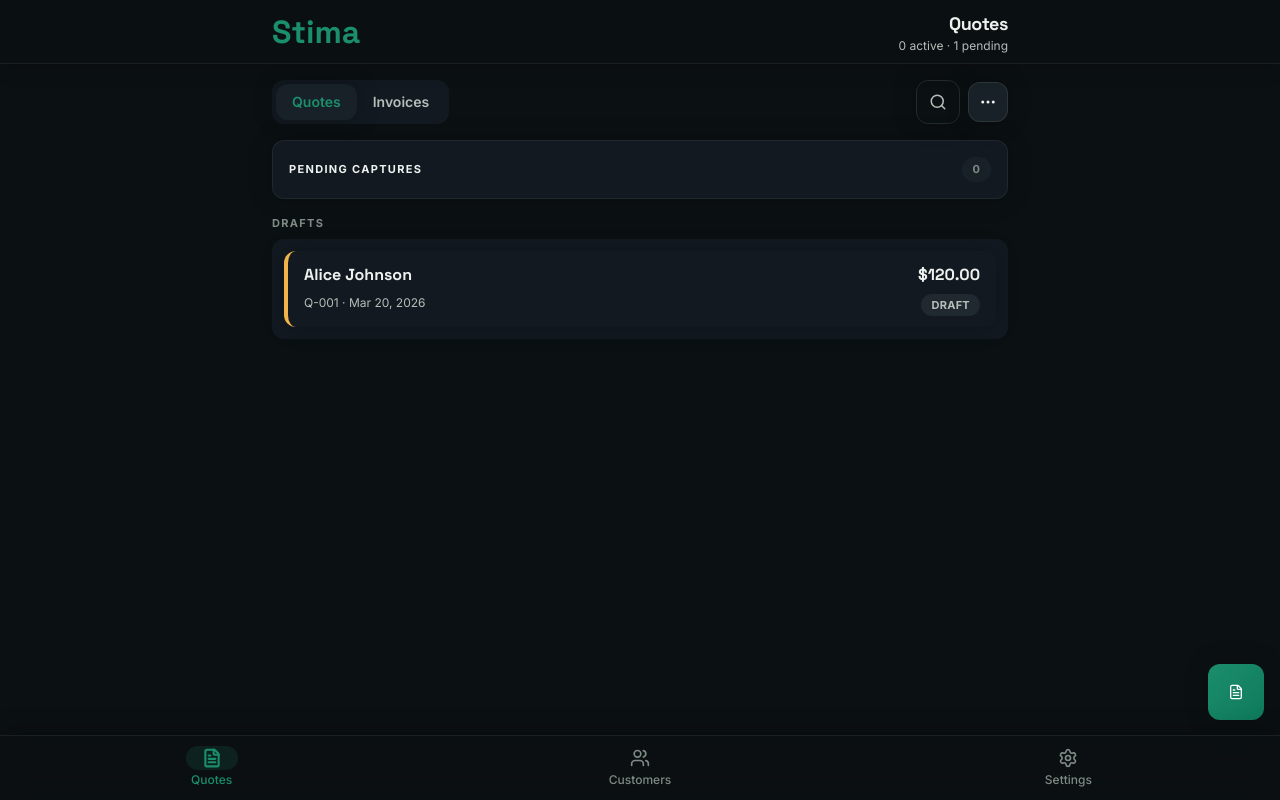
QuoteList › preserves open search state and query when switching tabs
Expected: the text "Q-001 · Mar 20, 2026" is shown, [304,295,426,311]
Click the button named "Open search". click: (938, 102)
box: [916,80,960,124]
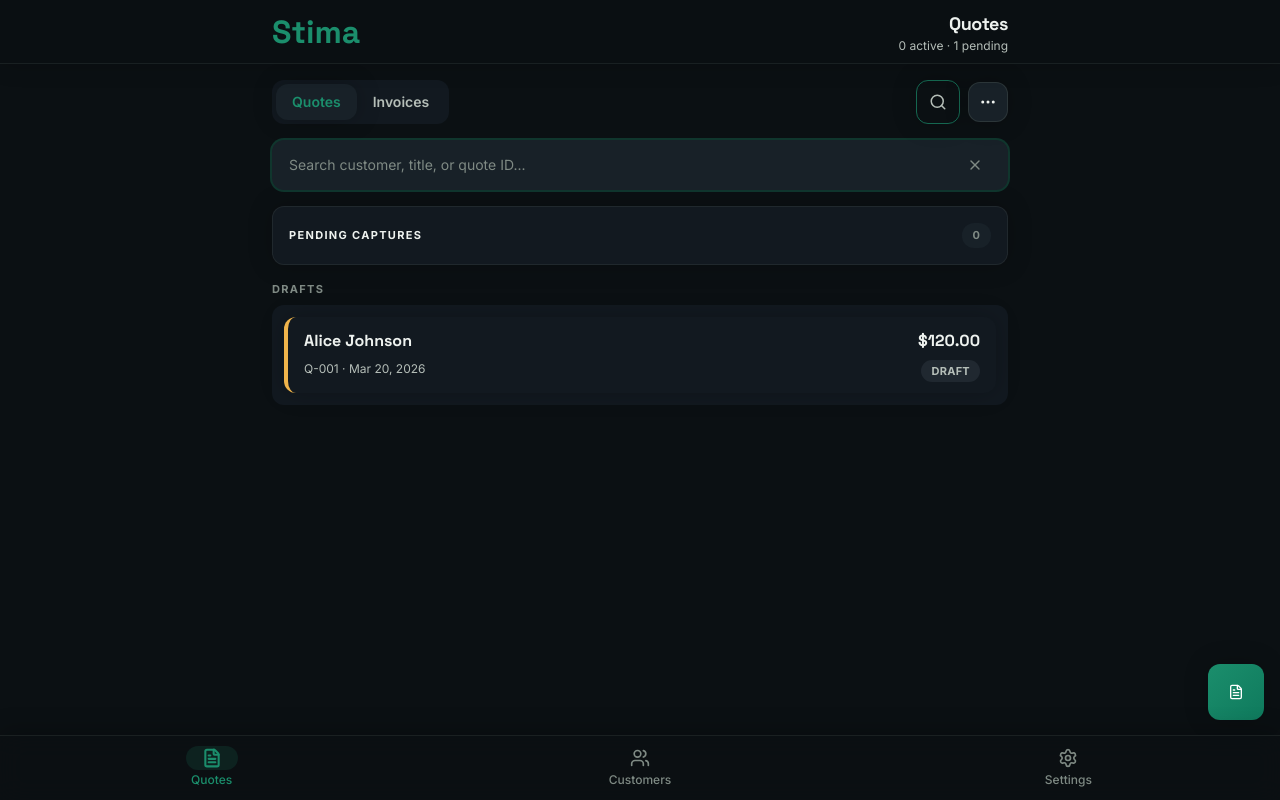
Type "bob" into the field named "Search quotes". click: (620, 165)
box: [289,155,951,175]
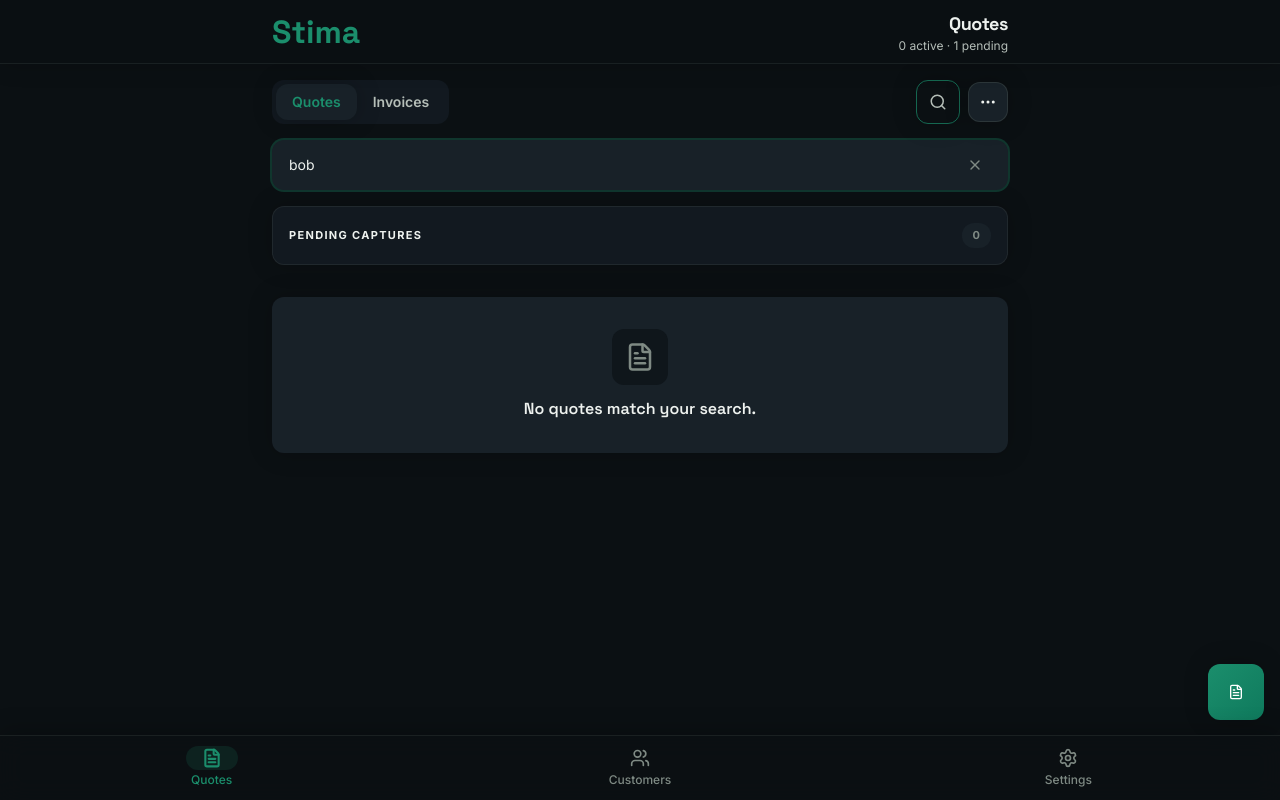
Click the button "Invoices". click: (401, 102)
box: [357,84,445,120]
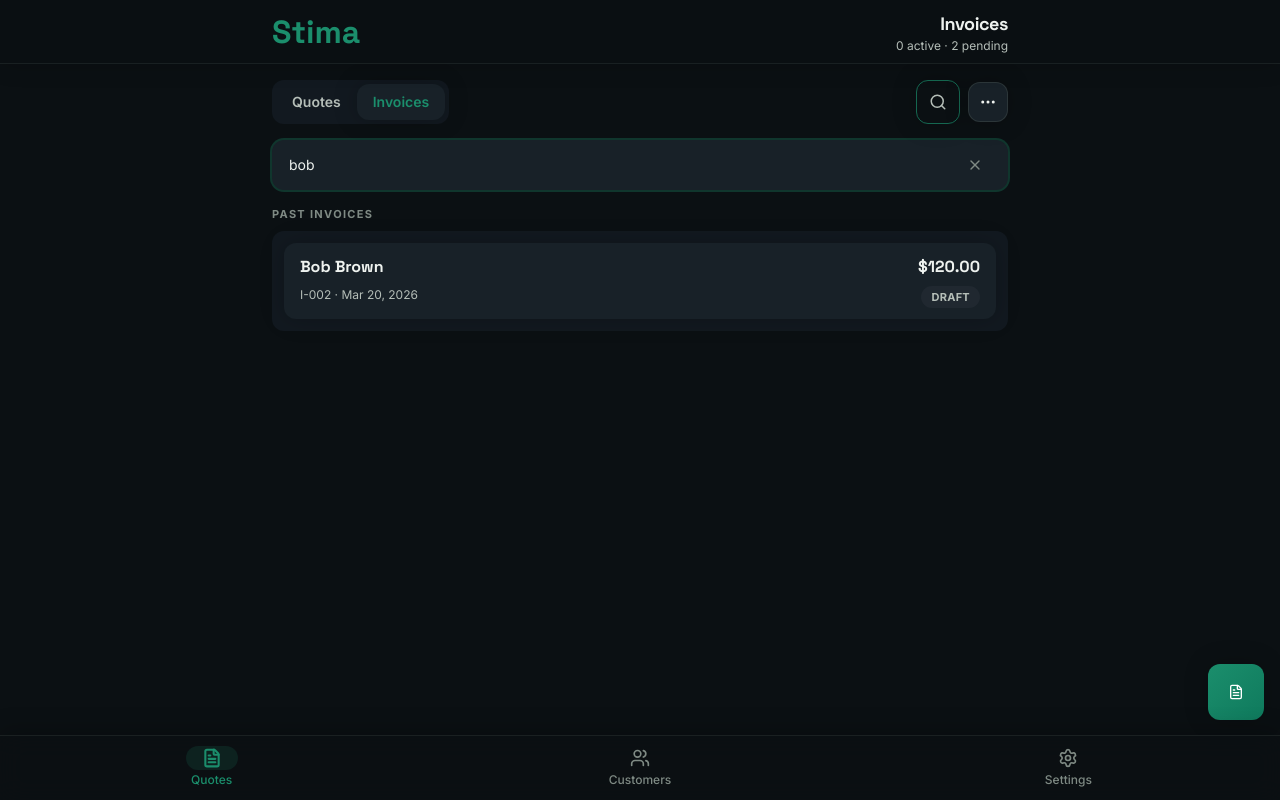
Now the button named "Close search" is shown, box [916,80,960,124]
Now the button "Bob Brown $120.00 I-002 · Mar 20, 2026 Draft" is shown, box [284,242,996,318]
